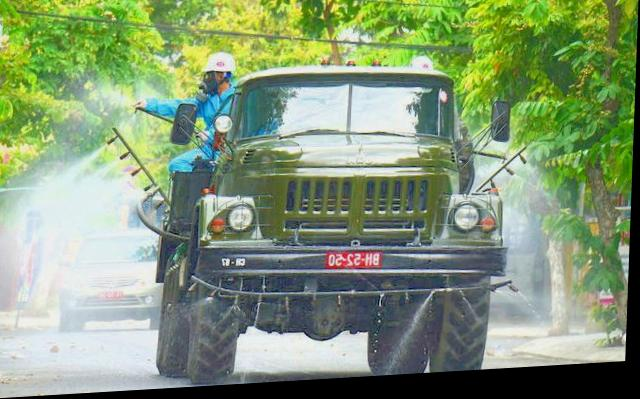License_Plate: (324, 249, 385, 270)
